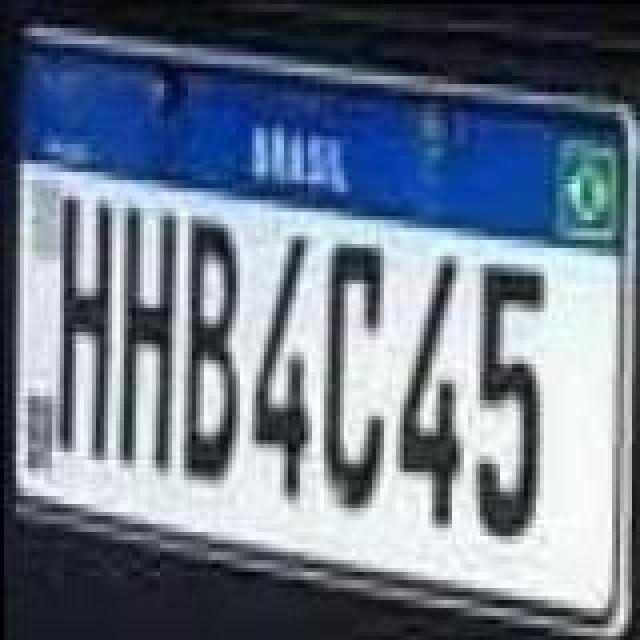4: (394, 244, 458, 528), (250, 232, 314, 508)
5: (476, 260, 552, 544)
B: (178, 214, 242, 486)
C: (320, 238, 388, 518)
H: (114, 206, 178, 482), (52, 192, 112, 464)
